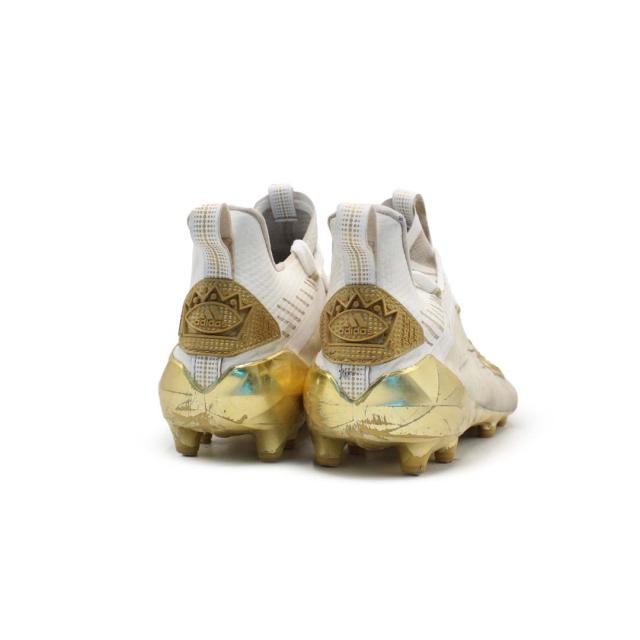heel: (312, 208, 430, 403), (176, 209, 302, 385)
midsole: (306, 353, 502, 470), (157, 351, 310, 459)
